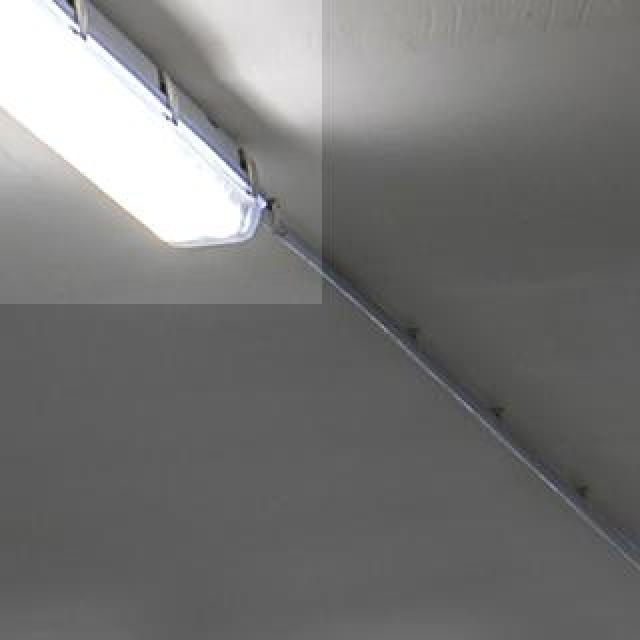fluorescent tube: (0, 0, 282, 284)
